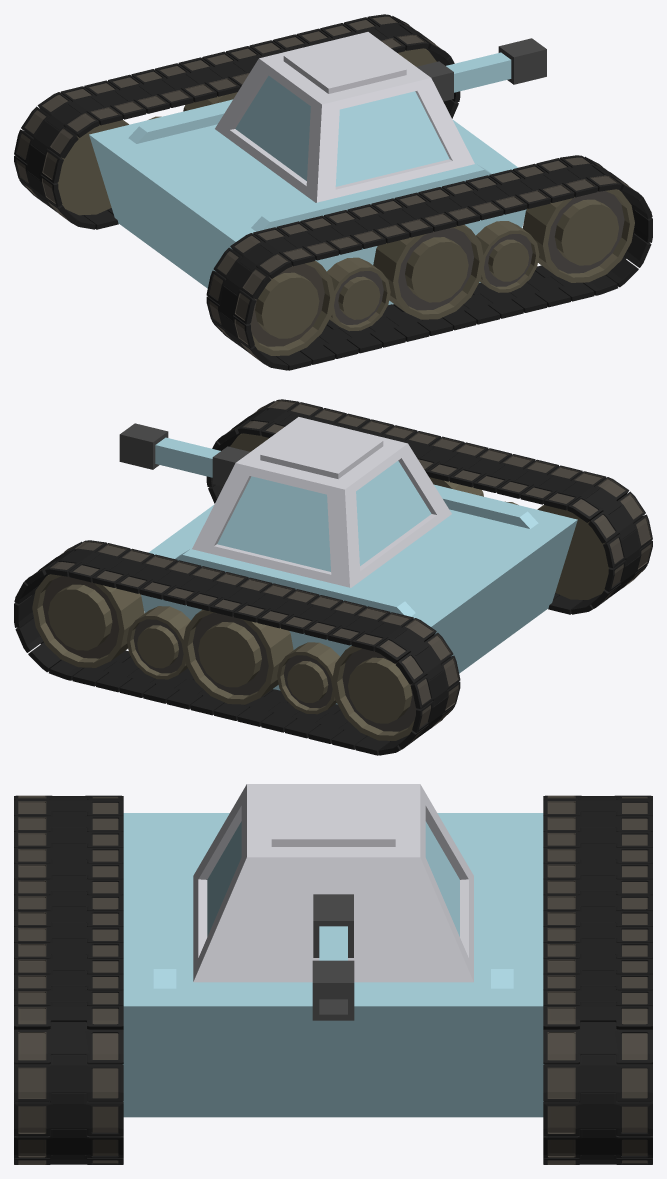
The model's file is FastTank.fbx.
The picture shows the model from 3 angles, top to bottom: view 1: azimuth 30°, elevation 25°; view 2: azimuth 150°, elevation 25°; view 3: azimuth 270°, elevation 25°; orthographic projection. The views are drawn at different scales.
Parts seen in each view (by area): view 1: Cube.001, Cube.003, Cube, Cube.002, Cylinder.013, Cylinder.015, Cylinder.012, Cube.005, Cylinder.016, Cylinder.014, Cylinder.004; view 2: Cube.002, Cube.003, Cube, Cube.001, Cylinder.003, Cylinder.002, Cylinder.004, Cube.005, Cylinder.005, Cylinder.001, Cylinder.012; view 3: Cube, Cube.003, Cube.002, Cube.001, Cube.005.
Boxes of the visible parts, <box> form: Cube.001: <box>206,155,652,370</box>; Cube.003: <box>215,32,474,202</box>; Cube: <box>89,99,526,304</box>; Cube.002: <box>14,14,460,229</box>; Cylinder.013: <box>522,189,634,282</box>; Cylinder.015: <box>373,224,484,319</box>; Cylinder.012: <box>250,260,335,355</box>; Cube.005: <box>417,38,546,101</box>; Cylinder.016: <box>327,257,390,331</box>; Cylinder.014: <box>476,221,539,292</box>; Cylinder.004: <box>57,120,128,215</box>; Cube.002: <box>14,540,460,755</box>; Cube.003: <box>192,417,451,587</box>; Cube: <box>141,484,577,704</box>; Cube.001: <box>206,399,652,614</box>; Cylinder.003: <box>32,574,144,667</box>; Cylinder.002: <box>182,609,293,704</box>; Cylinder.004: <box>332,646,416,740</box>; Cube.005: <box>119,423,249,486</box>; Cylinder.005: <box>126,606,190,679</box>; Cylinder.001: <box>277,642,339,714</box>; Cylinder.012: <box>537,505,609,599</box>; Cube: <box>122,813,544,1117</box>; Cube.003: <box>193,784,473,982</box>; Cube.002: <box>543,795,652,1164</box>; Cube.001: <box>14,795,123,1164</box>; Cube.005: <box>312,894,354,1020</box>.
Bounding box in the file's own units: 197 × 83.38 × 194.
